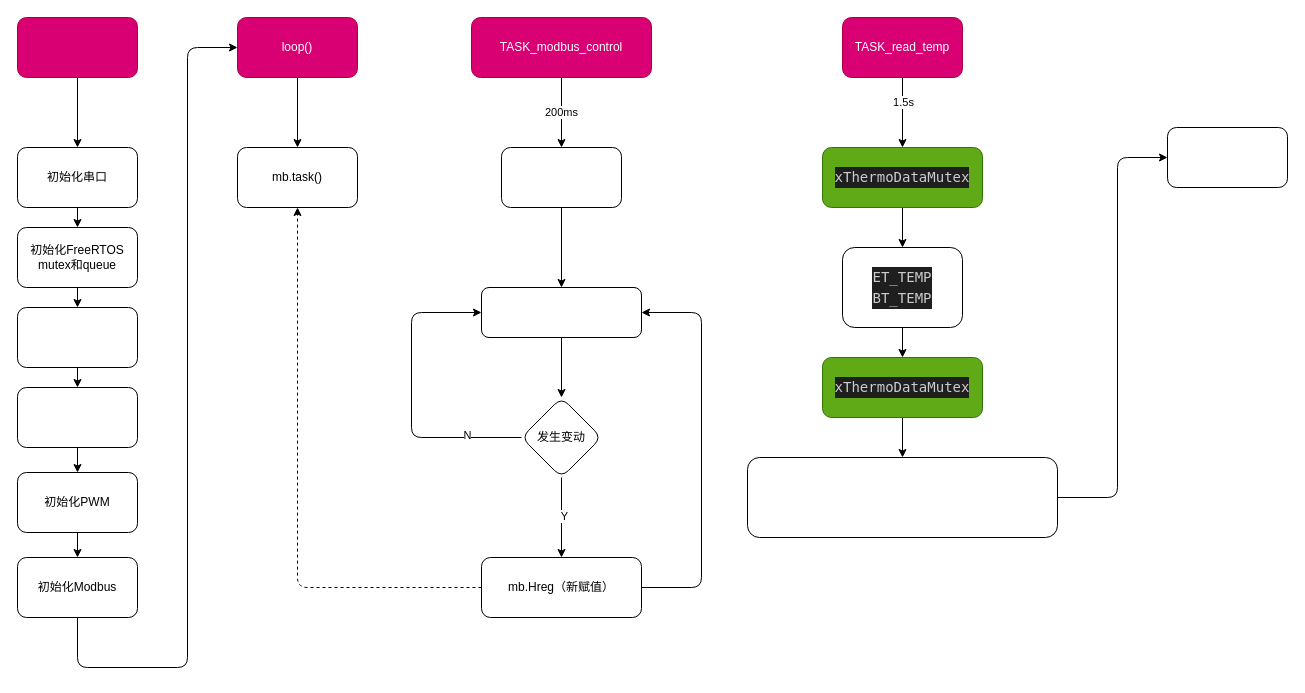
The diagram is 1305 pixels wide and 693 high, and some of its shapes have lost their labels. Each missing label, with the box of its shape:
getCurrentHreg(): (500, 146, 622, 208)
HEAT_HREG FAN_HREG: (480, 286, 642, 338)
mb . Hreg (BT_HREG, BT_TEMP ); mb . Hreg (ET_HREG, ET_TEMP );: (746, 456, 1058, 538)
setup(): (16, 16, 138, 78)
初始化wifi: (16, 306, 138, 368)
初始化温度传感器: (16, 386, 138, 448)
